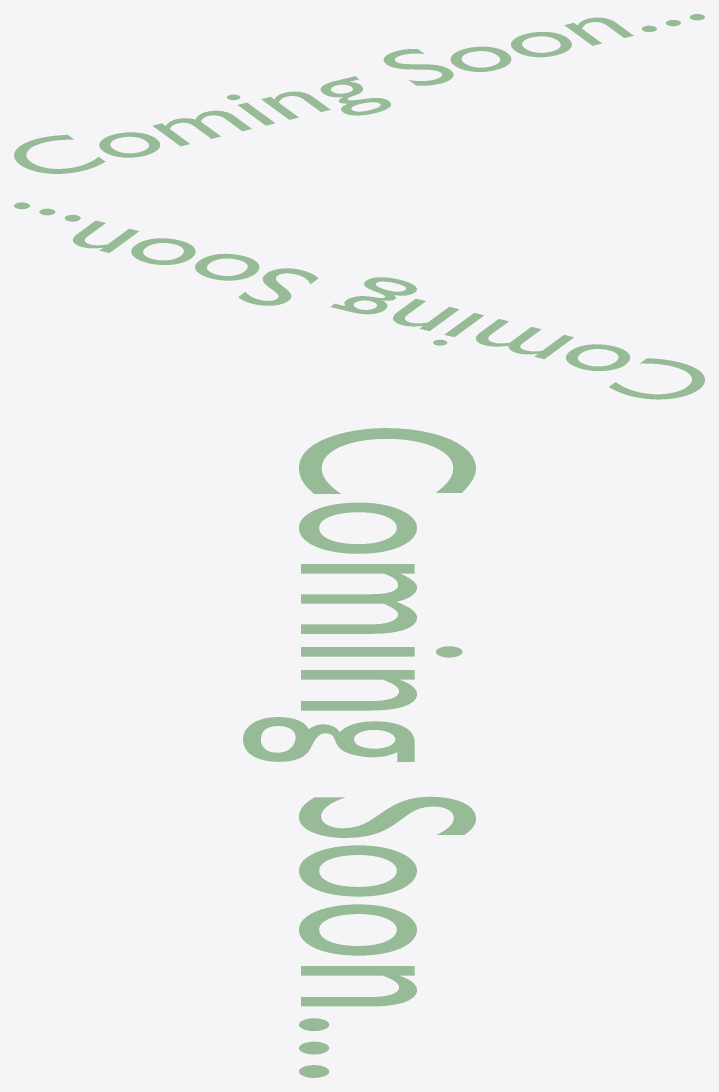
Rendered from ComingSoon.dae.
The picture shows the model from 3 angles, top to bottom: view 1: azimuth 30°, elevation 25°; view 2: azimuth 150°, elevation 25°; view 3: azimuth 270°, elevation 25°; orthographic projection. The views are drawn at different scales.
Parts seen in each view (by area): view 1: Coming_Soon; view 2: Coming_Soon; view 3: Coming_Soon.
Boxes of the visible parts, bbox=[...] form: Coming_Soon: bbox=[14, 14, 704, 173]; Coming_Soon: bbox=[14, 202, 704, 399]; Coming_Soon: bbox=[243, 428, 475, 1077].
Bounding box in the file's own units: 2.14 × 0.3242 × 0.
